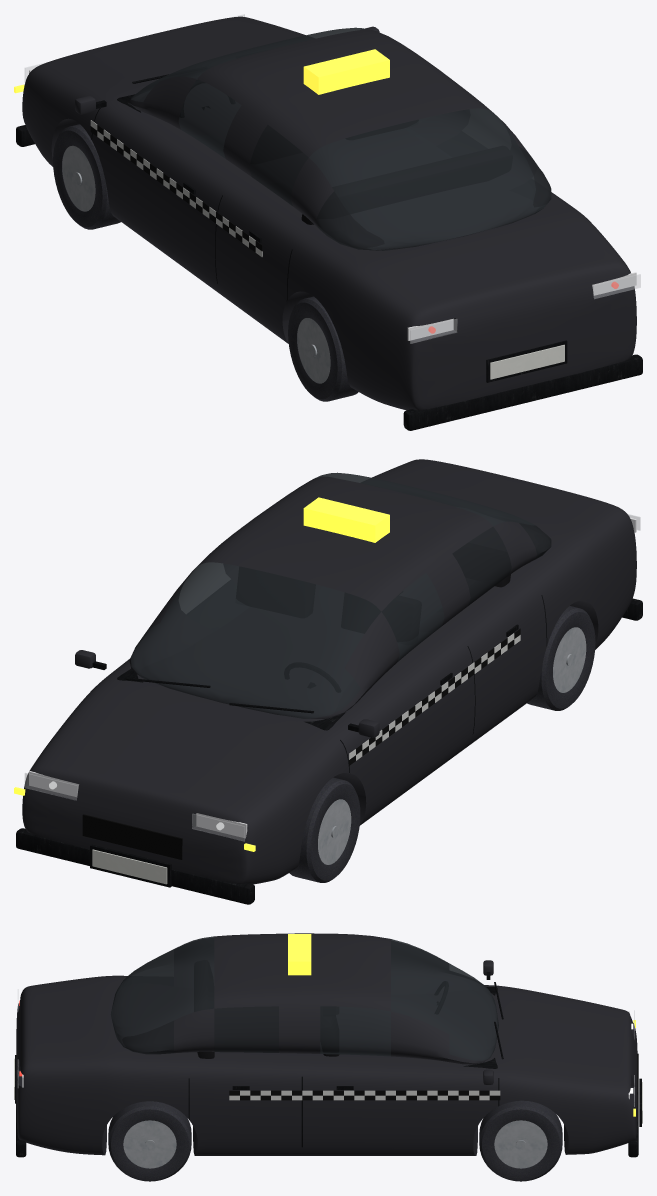
The model's file is taxi_black.gltf.
3 views of the same model, one above another, from view 1: azimuth 30°, elevation 25°; view 2: azimuth 150°, elevation 25°; view 3: azimuth 270°, elevation 25° (orthographic). The views are drawn at different scales.
Visible parts, largest first — view 1: taxi_black; view 2: taxi_black; view 3: taxi_black.
Part boxes in pixels (x1,y1,x2,y2): taxi_black: (14, 14, 642, 430); taxi_black: (14, 459, 642, 904); taxi_black: (14, 933, 642, 1181).
Bounding box in the file's own units: 2.11 × 1.57 × 4.83.
Materials: 19 (10 with a texture image).
